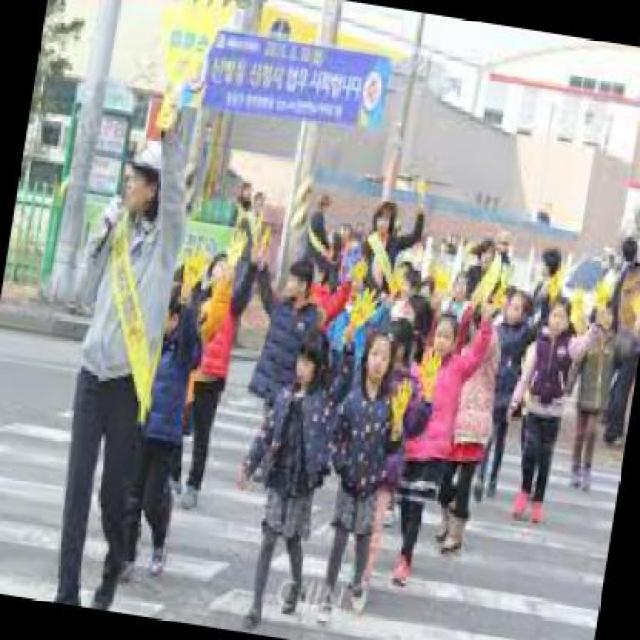obstacle: (37, 133, 192, 609), (223, 322, 352, 638), (372, 297, 494, 592), (308, 330, 412, 622), (488, 292, 604, 526), (121, 277, 208, 588), (220, 247, 331, 482), (470, 268, 562, 510), (560, 295, 638, 491)
